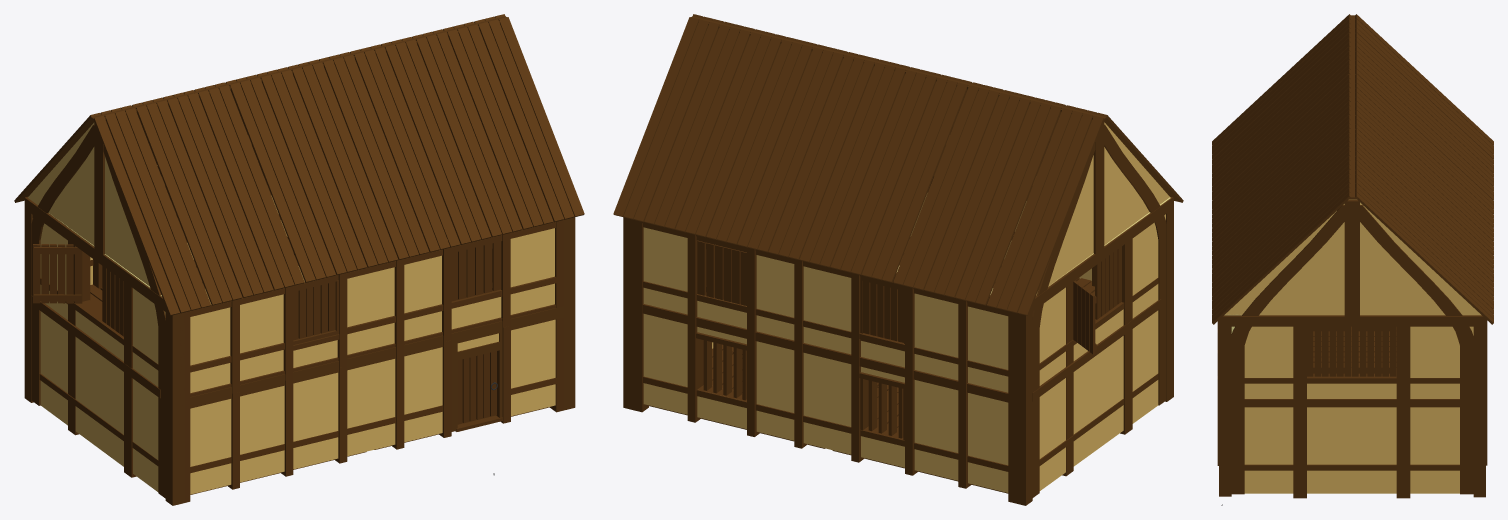
The model's file is House V2.fbx.
3 views of the same model, side by side, from view 1: azimuth 30°, elevation 25°; view 2: azimuth 150°, elevation 25°; view 3: azimuth 270°, elevation 25° (orthographic). The views are drawn at different scales.
Parts seen in each view (by area): view 1: Cube.250, Cube.149, Cube.148, Cube.143, Cube.161, Cube.156, Cube.157, Cube.162, Cube.146, Cube.168, Cube.097, Cube.126 (+17 smaller); view 2: Cube.250, Cube.089, Cube.119, Cube.148, Cube.161, Cube.156, Cube.162, Cube.086, Cube.122, Cube.124, Cube.106, Cube.169 (+7 smaller); view 3: Cube.250, Cube.145, Cube.162, Cube.110, Cube.107, Cube.170, Cube.171, Cube.085, Cube.108, Cube.100, Cube.136.
Part boxes in pixels (bbox=[...]): Cube.250: bbox=[14, 14, 584, 315]; Cube.149: bbox=[190, 224, 554, 393]; Cube.148: bbox=[28, 122, 165, 491]; Cube.143: bbox=[190, 347, 442, 494]; Cube.161: bbox=[24, 122, 190, 505]; Cube.156: bbox=[31, 125, 165, 498]; Cube.157: bbox=[183, 306, 563, 408]; Cube.162: bbox=[550, 217, 575, 412]; Cube.146: bbox=[511, 319, 555, 416]; Cube.168: bbox=[33, 244, 82, 303]; Cube.097: bbox=[457, 351, 496, 424]; Cube.126: bbox=[451, 241, 501, 301]; Cube.250: bbox=[613, 14, 1183, 315]; Cube.089: bbox=[643, 314, 1008, 492]; Cube.119: bbox=[643, 227, 1008, 392]; Cube.148: bbox=[1036, 122, 1170, 490]; Cube.161: bbox=[1008, 121, 1173, 505]; Cube.156: bbox=[1032, 124, 1166, 497]; Cube.162: bbox=[623, 217, 648, 412]; Cube.086: bbox=[642, 304, 1008, 402]; Cube.122: bbox=[697, 240, 746, 305]; Cube.124: bbox=[863, 281, 903, 342]; Cube.106: bbox=[1120, 239, 1132, 434]; Cube.169: bbox=[1093, 246, 1121, 319]; Cube.250: bbox=[1212, 14, 1493, 324]; Cube.145: bbox=[1225, 199, 1481, 493]; Cube.162: bbox=[1219, 200, 1485, 497]; Cube.110: bbox=[1396, 326, 1410, 498]; Cube.107: bbox=[1293, 326, 1306, 498]; Cube.170: bbox=[1307, 326, 1351, 376]; Cube.171: bbox=[1352, 326, 1396, 376]; Cube.085: bbox=[1244, 399, 1459, 407]; Cube.108: bbox=[1244, 372, 1459, 383]; Cube.100: bbox=[1244, 464, 1459, 470]; Cube.136: bbox=[1313, 326, 1396, 371].
Size of the model in its own units: 11.42 by 9.58 by 7.04.
Materials: 299 (3 with a texture image).
